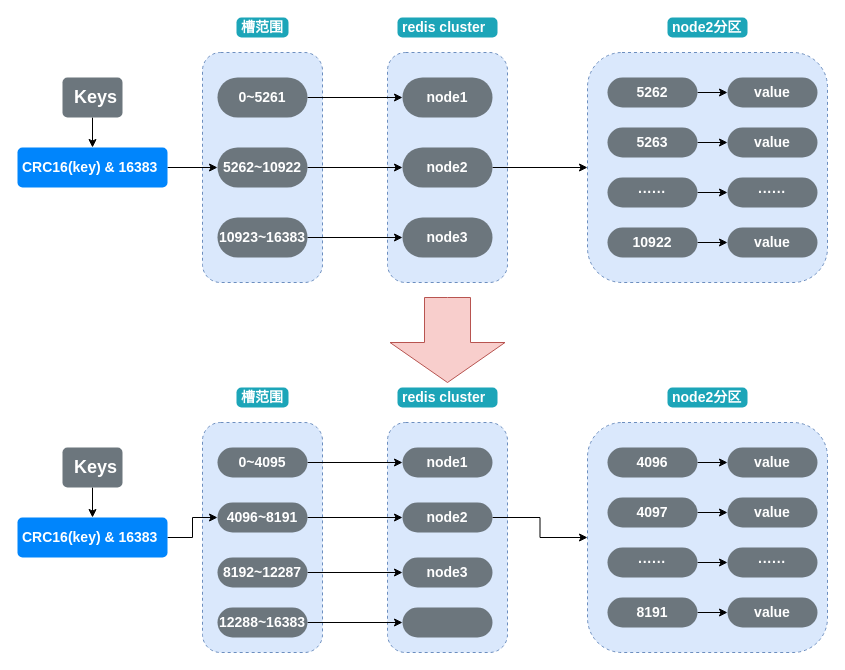
Image size: 845x670. Some labels were removed from this diagram. The shapes that lost their labels are listed below. From the top down, each one's centre as x and y in pixels, then its label:
pixel 447 339: 扩容
pixel 447 622: node4
